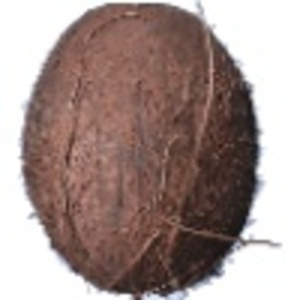coco: (21, 1, 266, 300)
